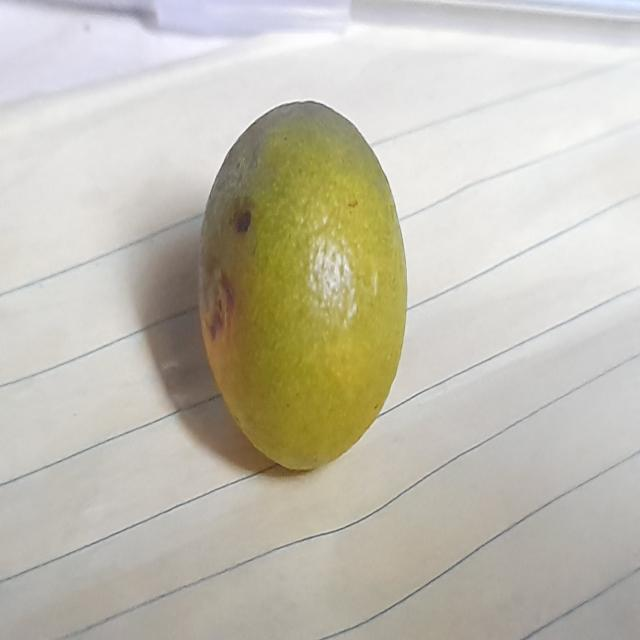greening: (196, 96, 414, 479)
